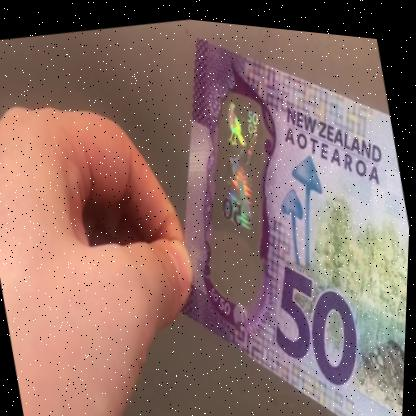50B: (182, 82, 297, 296)
